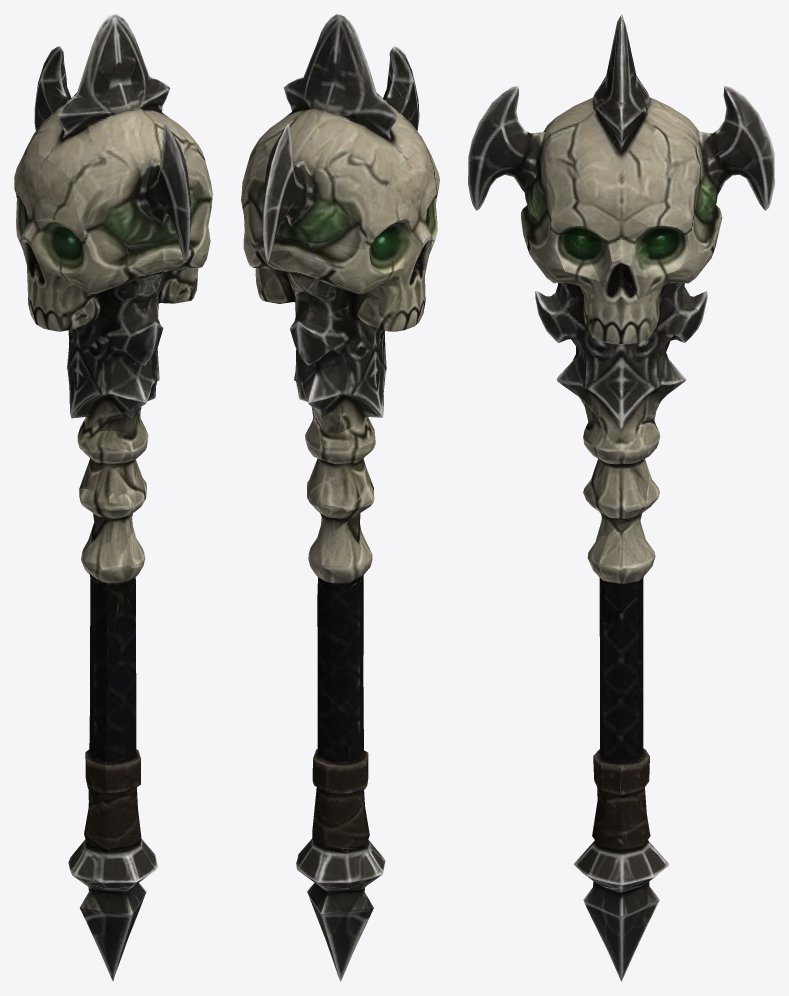
Rendered from gravecaller_staff.glb.
3 renders of one model, left to right at view 1: azimuth 30°, elevation 25°; view 2: azimuth 150°, elevation 25°; view 3: azimuth 270°, elevation 25°, orthographic.
Size of the model in its own units: 0.3973 by 2.1 by 0.6044.
1 material, 1 textured.
